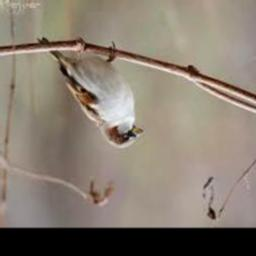Sparrow: (35, 37, 143, 148)
